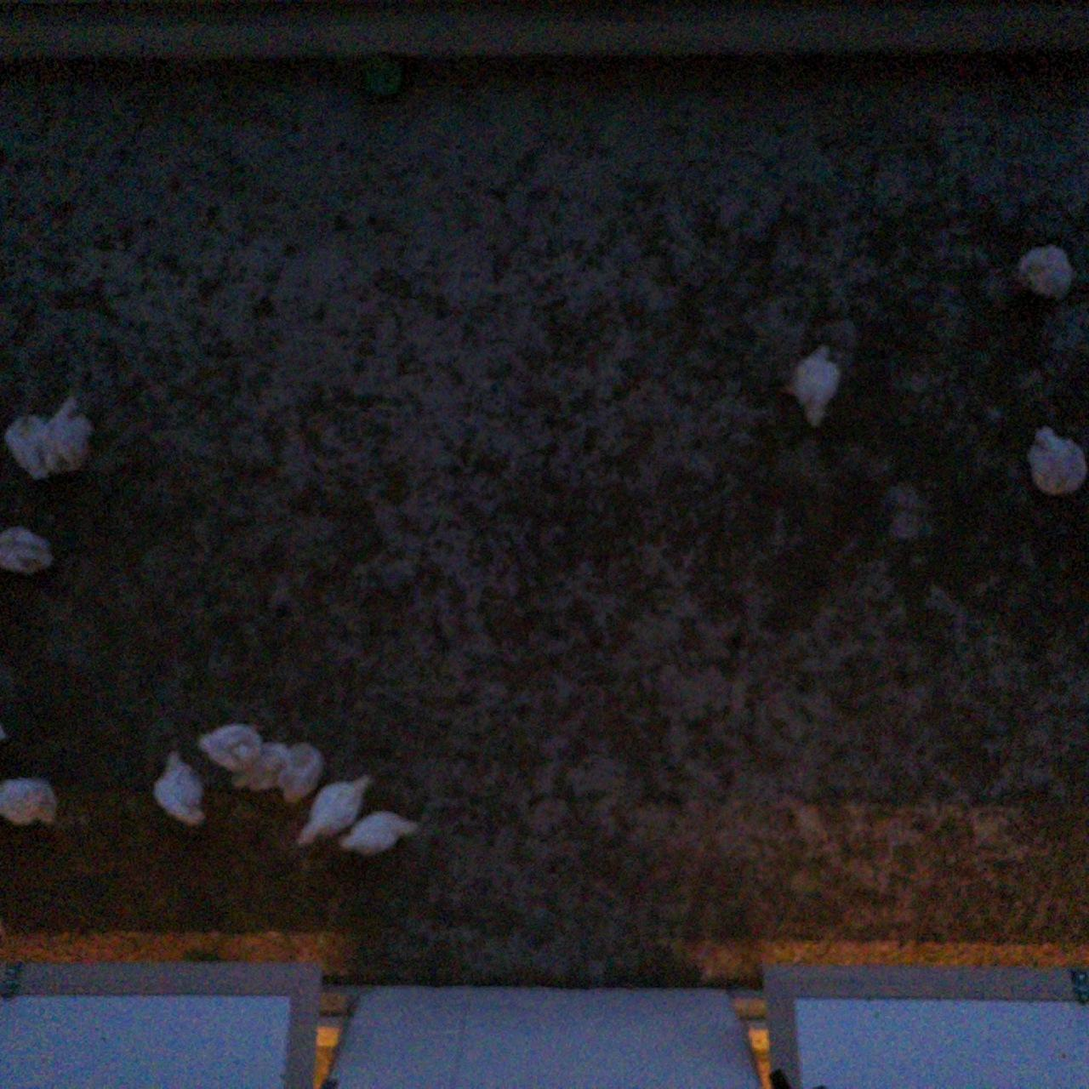chicken: (776, 334, 847, 434), (293, 771, 375, 852), (1022, 419, 1089, 499), (151, 745, 210, 831), (42, 390, 101, 476), (1009, 237, 1078, 305), (337, 807, 425, 860), (2, 404, 60, 482), (197, 712, 271, 773), (0, 521, 61, 582), (0, 774, 63, 833), (229, 739, 291, 796), (279, 738, 327, 811)
